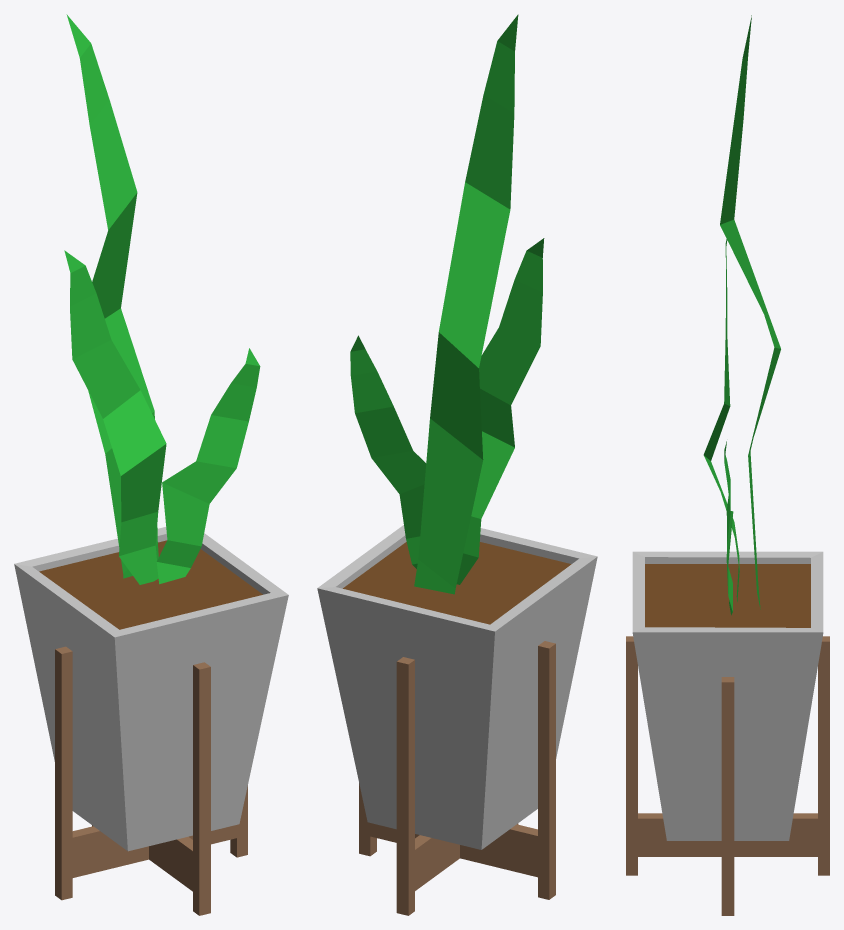
The model's file is Room Pot.fbx.
3 views of the same model, side by side, from view 1: azimuth 30°, elevation 25°; view 2: azimuth 150°, elevation 25°; view 3: azimuth 270°, elevation 25° (orthographic). The views are drawn at different scales.
Visible parts, largest first — view 1: Plane.002; view 2: Plane.002; view 3: Plane.002.
Part boxes in pixels (bbox=[...]): Plane.002: bbox=[14, 14, 288, 915]; Plane.002: bbox=[317, 14, 597, 915]; Plane.002: bbox=[626, 15, 829, 915].
Bounding box in the file's own units: 294 × 1220 × 273.
